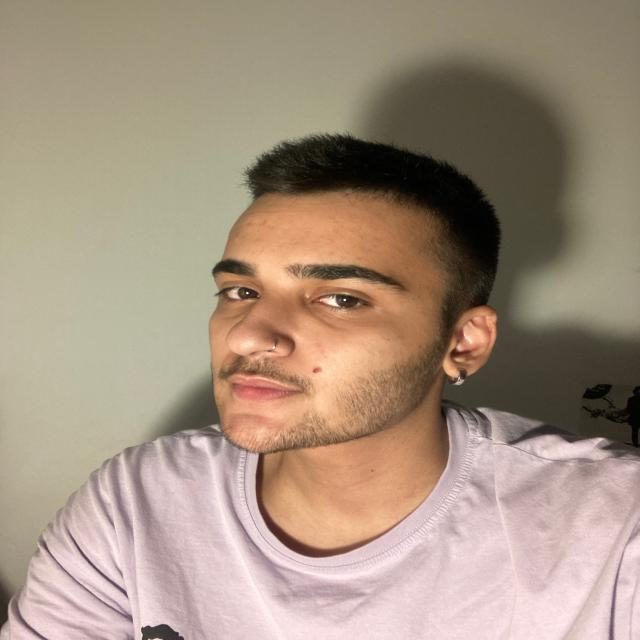Acne: (311, 366, 330, 378), (242, 222, 255, 229), (416, 340, 426, 349), (327, 250, 335, 256), (355, 258, 361, 264)
Englarged-Pores: (332, 350, 360, 378), (232, 331, 258, 350)
